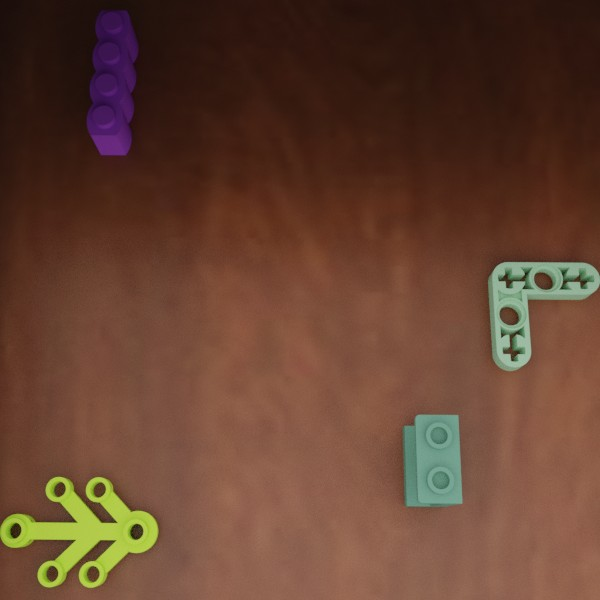lego: (0, 476, 158, 587), (488, 262, 600, 371), (86, 10, 138, 155), (402, 414, 462, 506)
